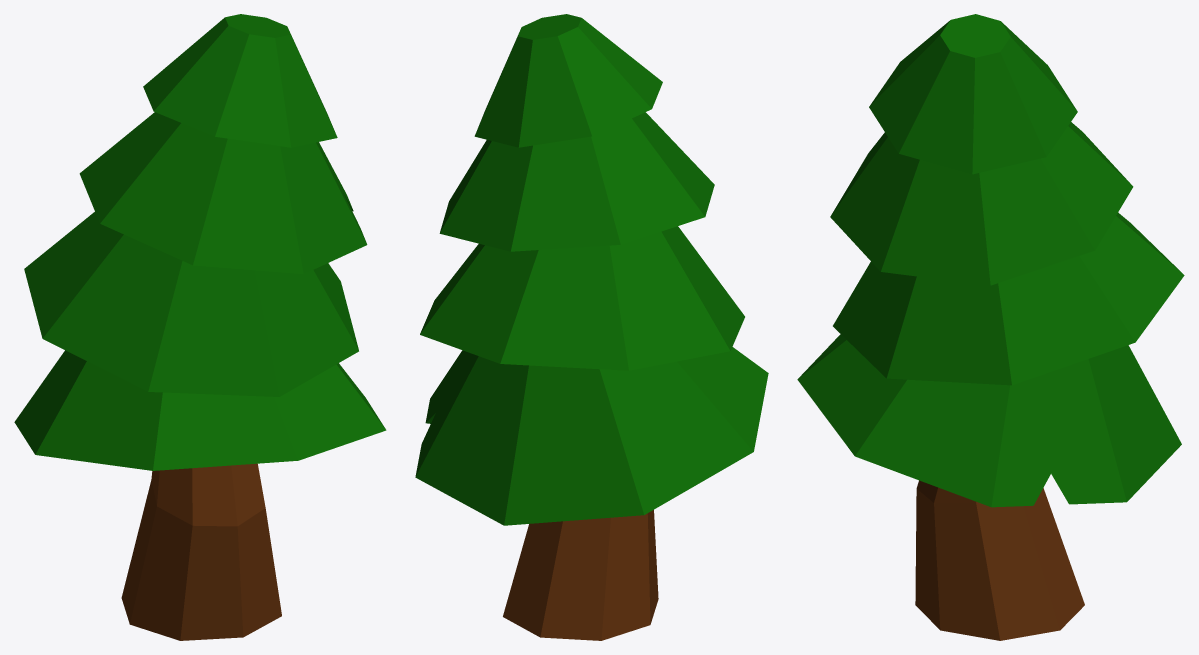
Rendered from tree.fbx.
The picture shows the model from 3 angles, left to right: view 1: azimuth 30°, elevation 25°; view 2: azimuth 150°, elevation 25°; view 3: azimuth 270°, elevation 25°; orthographic projection. The views are drawn at different scales.
Visible parts, largest first — view 1: 円柱.001; view 2: 円柱.001; view 3: 円柱.001.
Part boxes in pixels (x1,y1,x2,y2): 円柱.001: [14, 14, 386, 640]; 円柱.001: [415, 14, 768, 640]; 円柱.001: [797, 14, 1184, 640].
Bounding box in the file's own units: 180 × 305 × 179.
